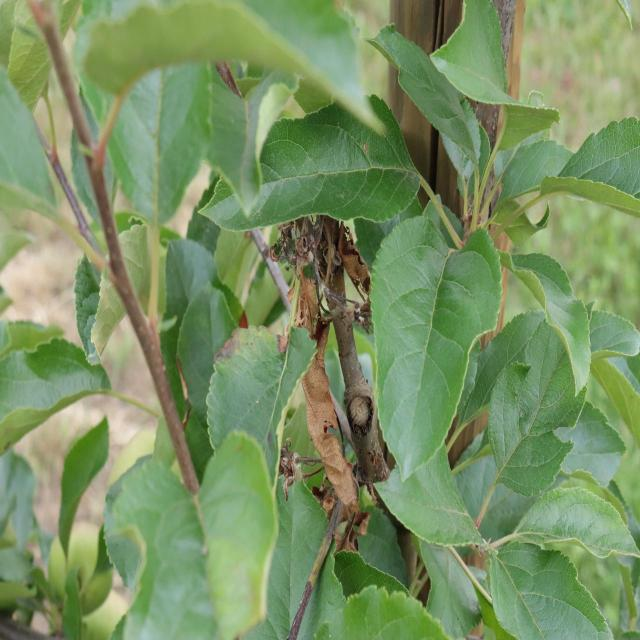-FireBlight-: (261, 228, 372, 530)
